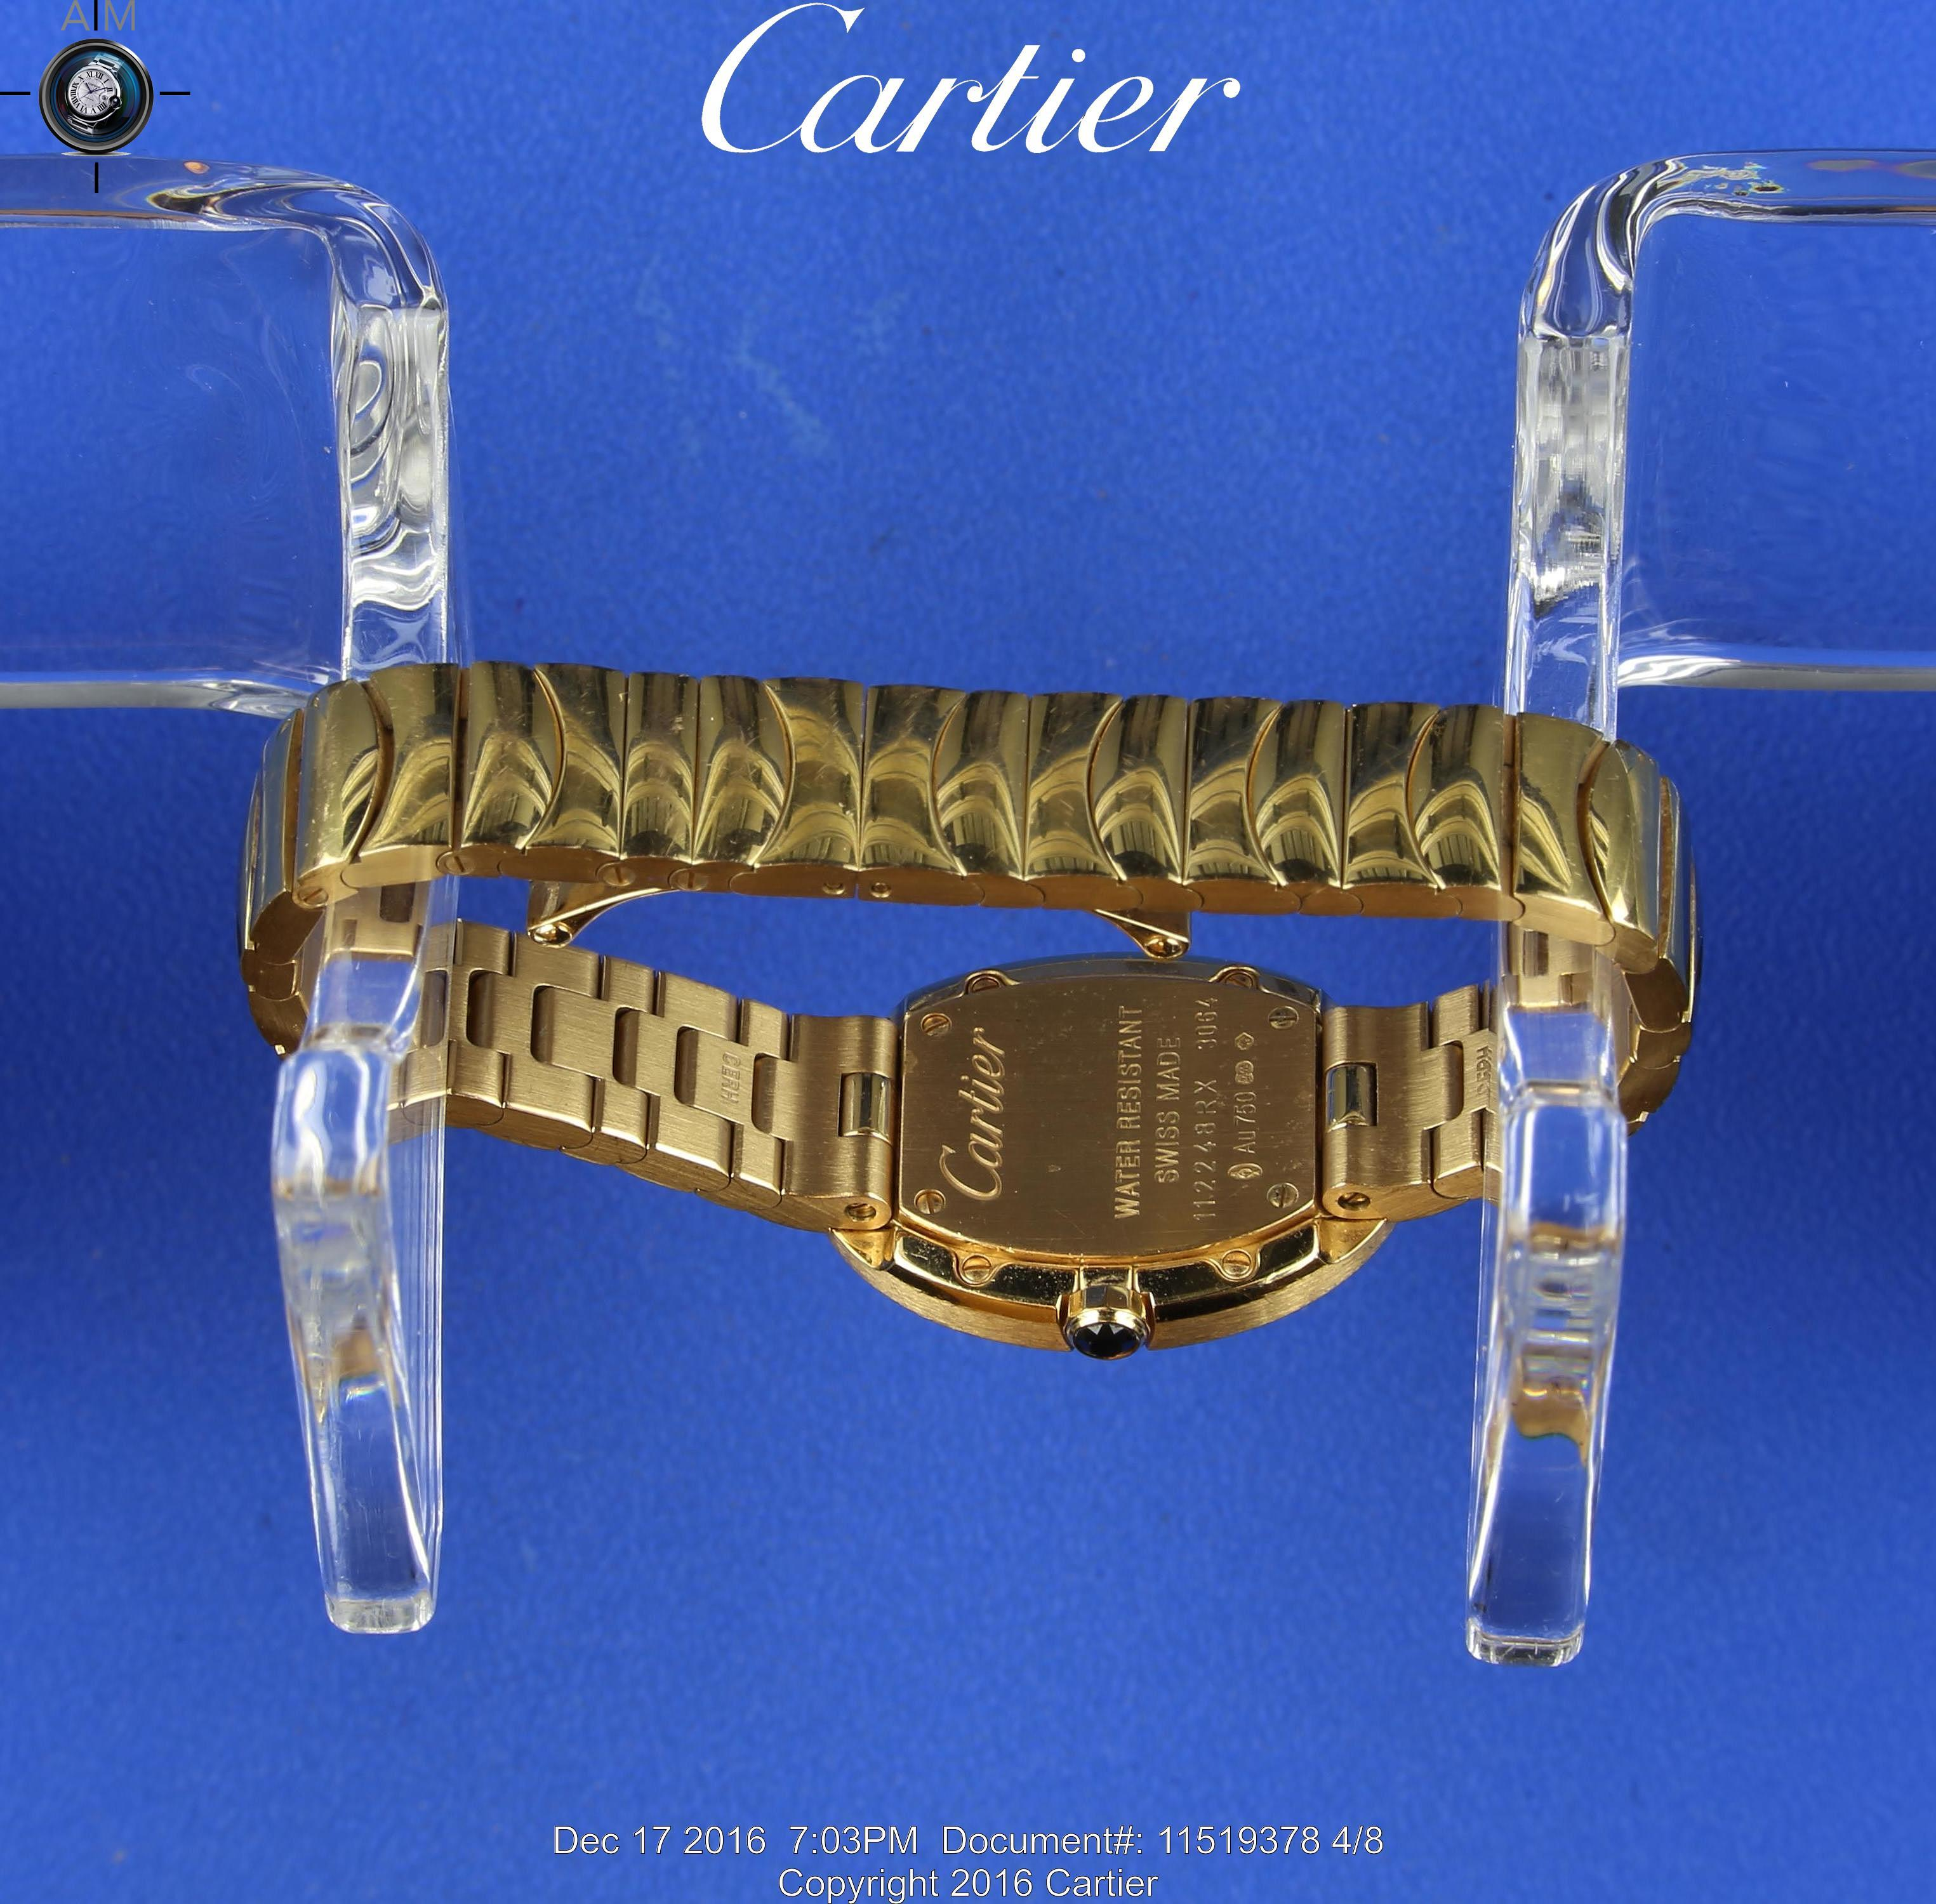Watch Back Case: (795, 924, 1418, 1367)
